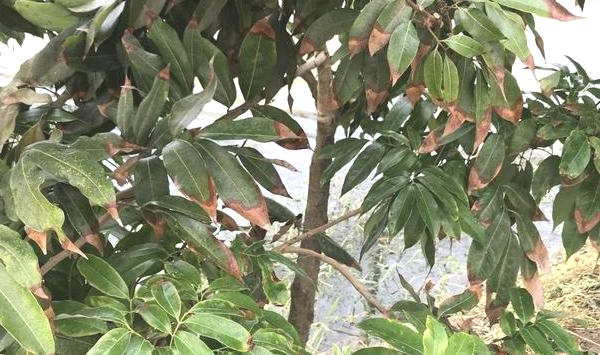Anthracnose: (440, 62, 530, 152), (301, 12, 397, 95), (192, 159, 275, 249), (203, 3, 277, 66), (94, 137, 150, 219), (486, 235, 554, 295), (446, 160, 521, 214), (25, 219, 73, 265), (563, 179, 595, 243), (287, 107, 308, 143)
